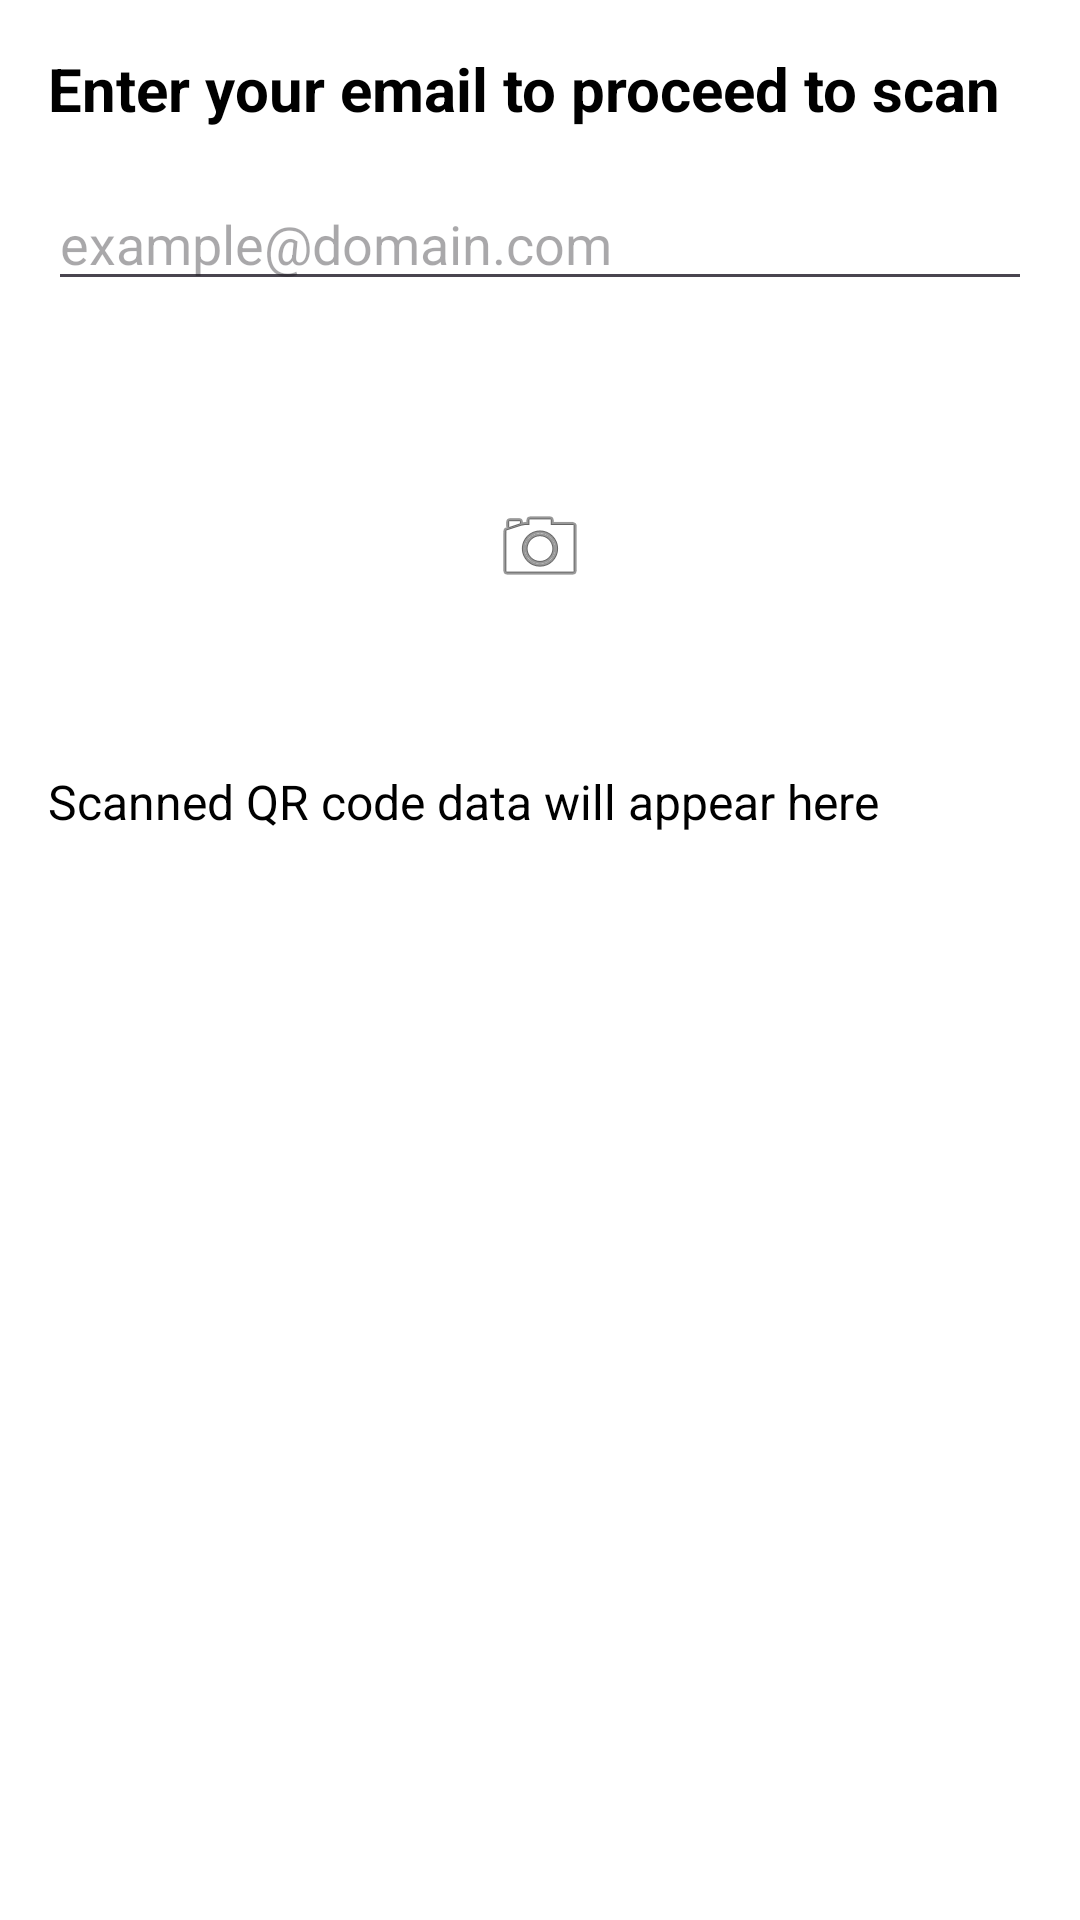

Icons on this 1080*1920 Android screen, each with the point to tap as [x,y]:
Scan QR: [540,545]
